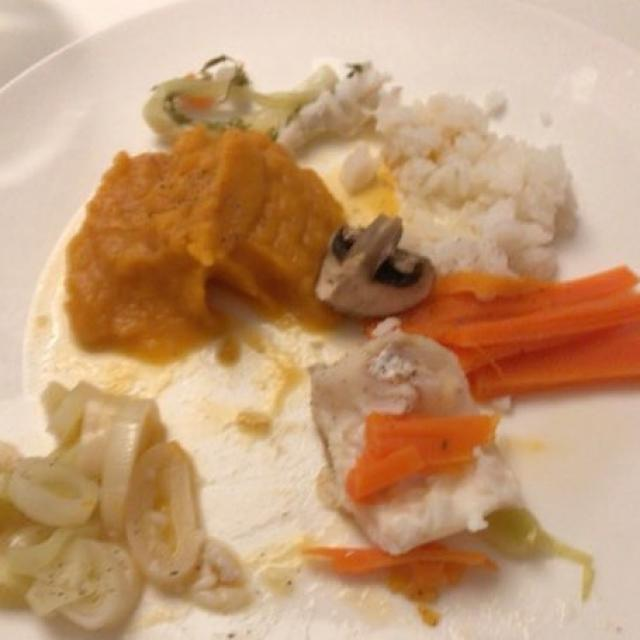carrot-raw: (349, 267, 632, 483)
leek: (1, 394, 247, 635)
mushroom: (317, 211, 438, 322)
rice: (320, 56, 622, 277)
sweet-potato: (57, 127, 345, 354)
